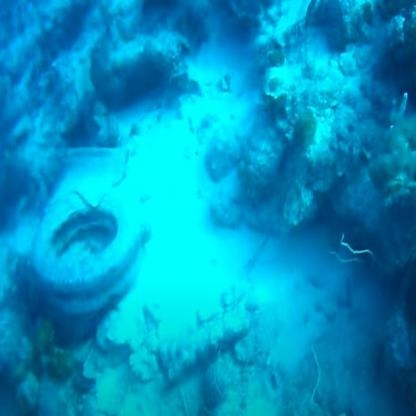tire: (35, 181, 154, 353)
